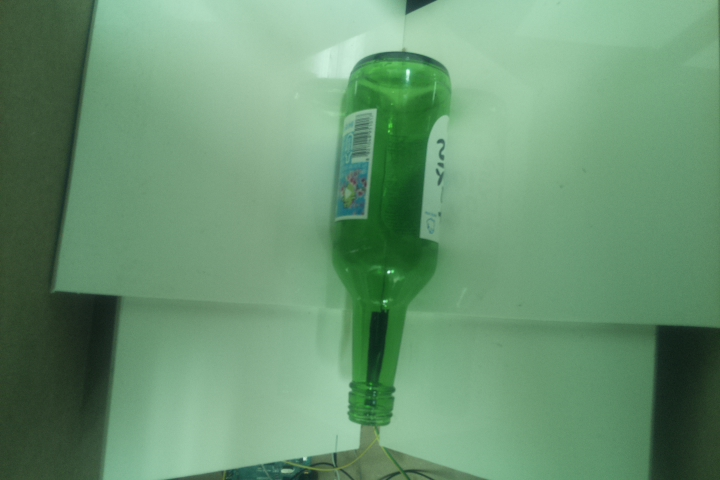soju: (328, 51, 455, 427)
